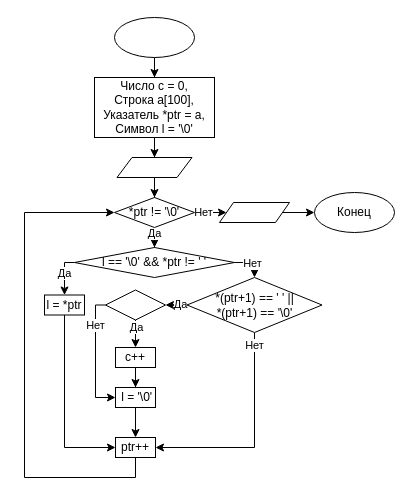
This 412x503 diagram has some shape labels left out. Here are the shapes that lost their labels. From the top down, the box of each, then its label:
(114, 16, 194, 58): Начало
(116, 156, 192, 178): Ввод x, y
(218, 202, 290, 222): Вывод c
(104, 289, 166, 320): *ptr == l
